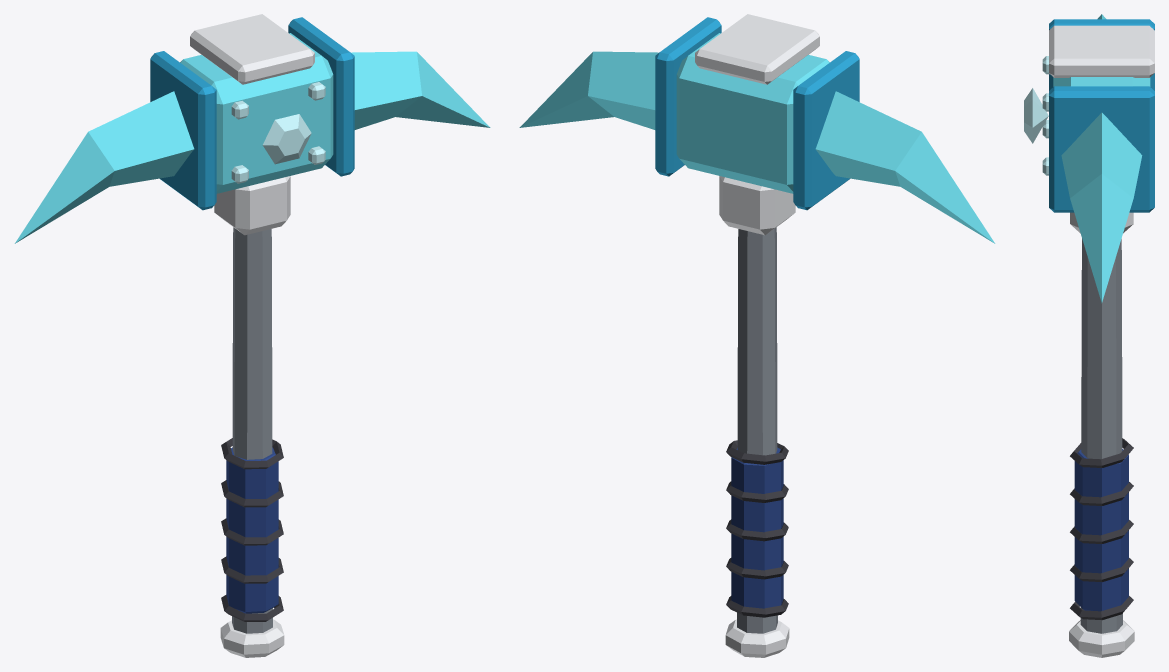
Rendered from DiamondHeavyPickaxe.fbx.
The picture shows the model from 3 angles, left to right: view 1: azimuth 30°, elevation 25°; view 2: azimuth 150°, elevation 25°; view 3: azimuth 270°, elevation 25°; orthographic projection.
Parts seen in each view (by area): view 1: DiamondHeavyPickaxe; view 2: DiamondHeavyPickaxe; view 3: DiamondHeavyPickaxe.
Part boxes in pixels (box(x1,y1,x2,y2)): DiamondHeavyPickaxe: box(14, 14, 490, 657); DiamondHeavyPickaxe: box(519, 14, 995, 657); DiamondHeavyPickaxe: box(1024, 14, 1154, 657).
Bounding box in the file's own units: 3.1 × 3.78 × 0.74.
Materials: 1 (1 with a texture image).
